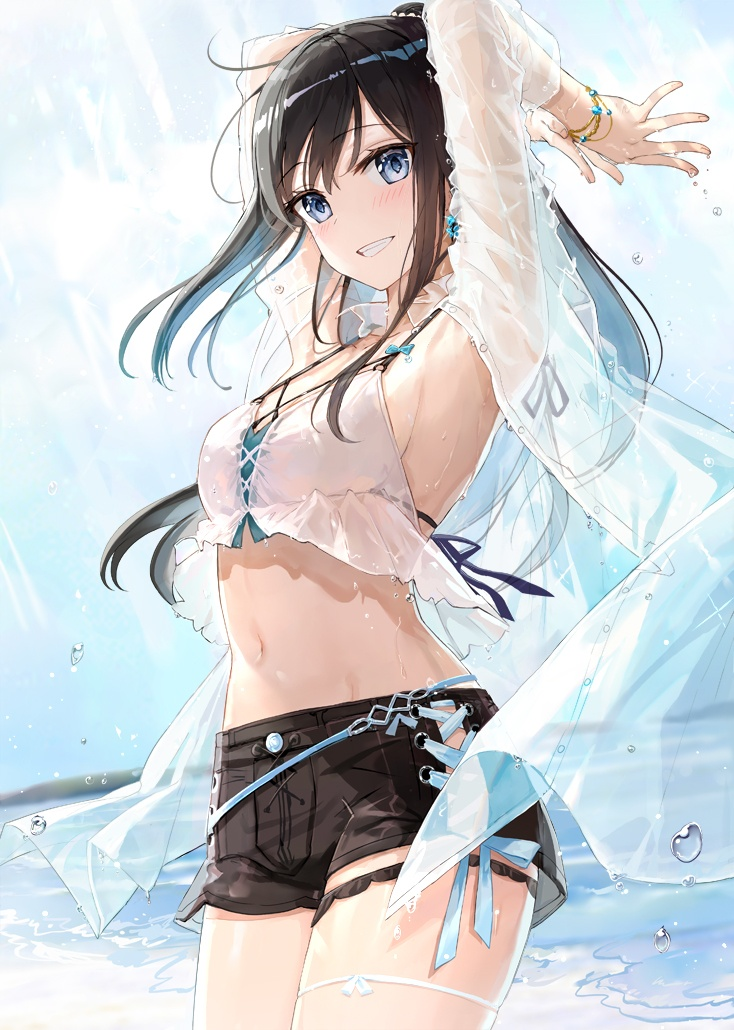纸片人正脸: (235, 12, 473, 301)
